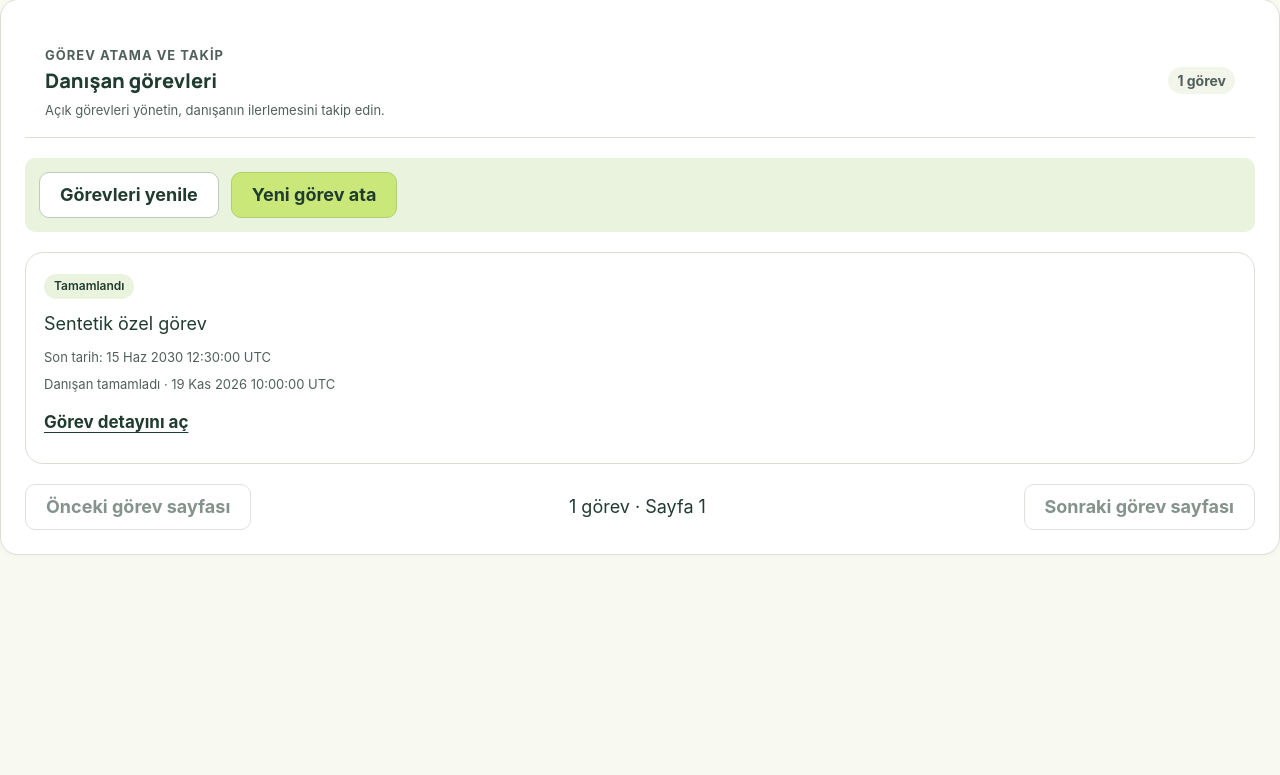
Scenario: React task assignment and tracking › shows list, detail, completion time and the API snapshot history for a completed task
Expected: the text "Sentetik özel görev" is shown, [44,313,207,334]
Click the button "Görev detayını aç" at [116, 423], box [44,401,188,445]
(page scrolled)
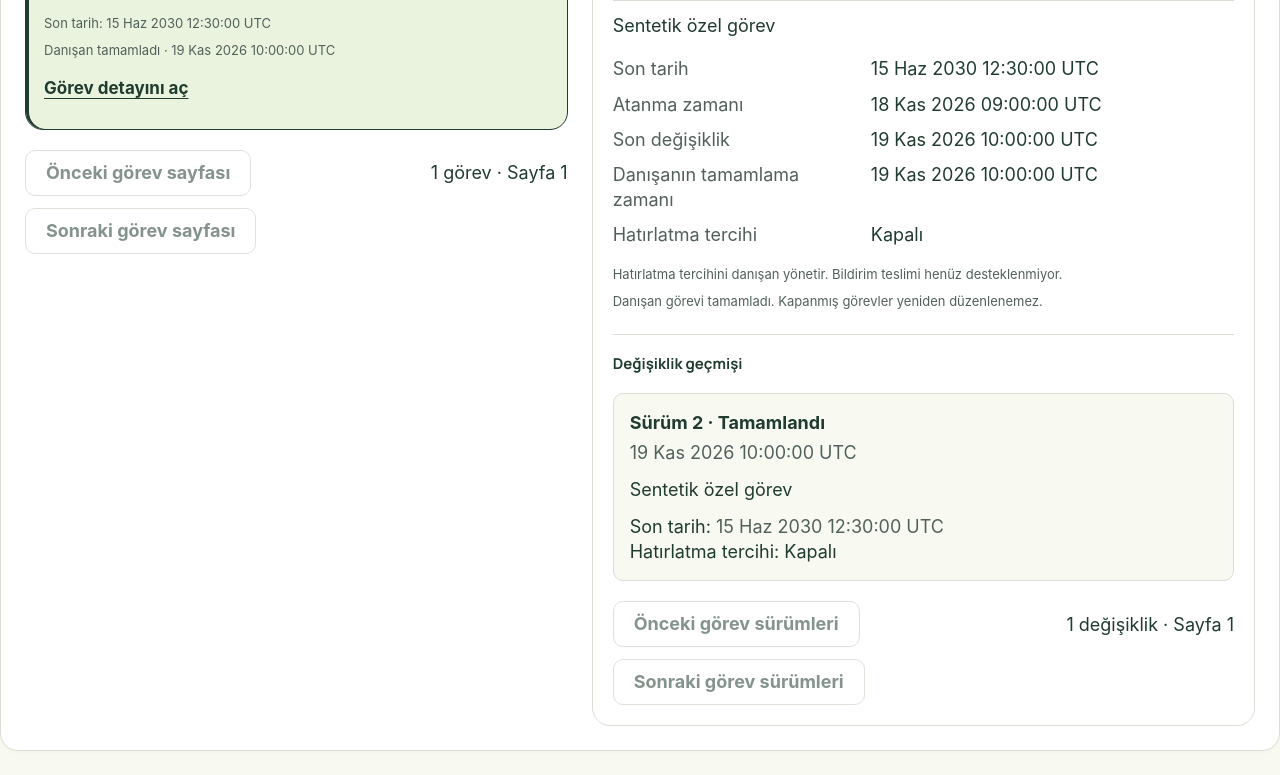
Now the element "Görev detayı" shows "Danışanın tamamlama zamanı", box [613,164,799,210]
Now the element named "Görev değişiklik geçmişi" shows "Sürüm 2 · Tamamlandı", box [613,334,1234,706]
Now the text "Bildirim teslimi" is shown once, box [613,266,1063,282]
